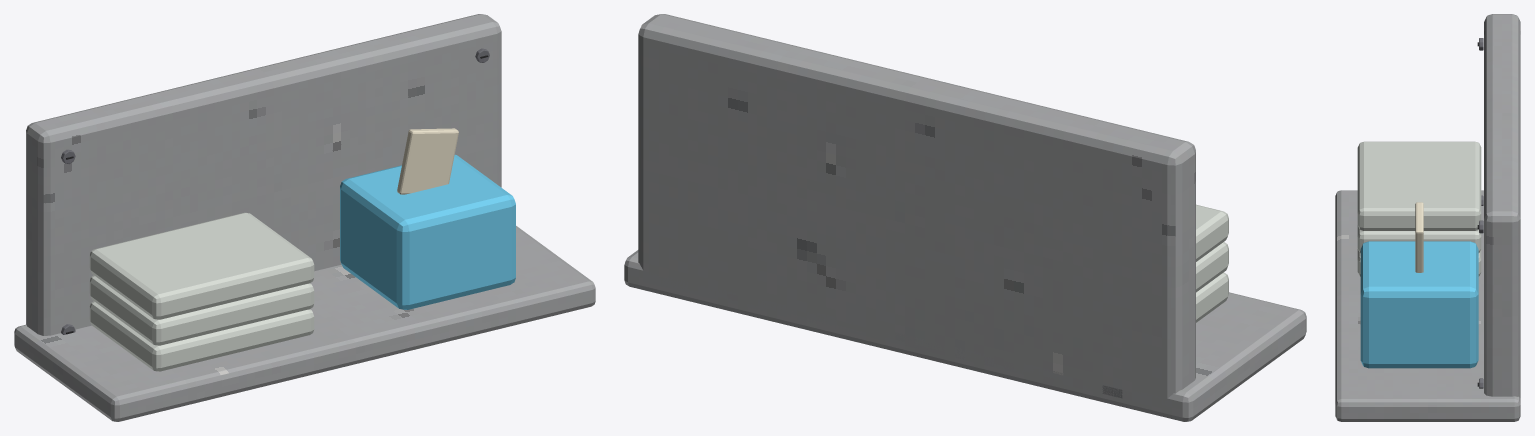
Rendered from lbd_med_comfort_shelf.glb.
3 views of the same model, side by side, from view 1: azimuth 30°, elevation 25°; view 2: azimuth 150°, elevation 25°; view 3: azimuth 270°, elevation 25° (orthographic). The views are drawn at different scales.
Visible parts, largest first — view 1: med_comfort_shelf__mount_003, med_comfort_shelf__shelf_022, med_comfort_shelf__tissue box_034, med_comfort_shelf__folded towel_031, med_comfort_shelf__folded towel_028, med_comfort_shelf__folded towel_025, med_comfort_shelf__tissue_037; view 2: med_comfort_shelf__mount_003, med_comfort_shelf__shelf_022, med_comfort_shelf__folded towel_031, med_comfort_shelf__folded towel_028, med_comfort_shelf__folded towel_025; view 3: med_comfort_shelf__tissue box_034, med_comfort_shelf__mount_003, med_comfort_shelf__shelf_022, med_comfort_shelf__folded towel_031, med_comfort_shelf__folded towel_028, med_comfort_shelf__tissue_037, med_comfort_shelf__folded towel_025.
Boxes of the visible parts, x1,y1,x2,y2 form: med_comfort_shelf__mount_003: (26, 14, 501, 335); med_comfort_shelf__shelf_022: (14, 226, 595, 421); med_comfort_shelf__tissue box_034: (340, 154, 515, 309); med_comfort_shelf__folded towel_031: (89, 212, 314, 319); med_comfort_shelf__folded towel_028: (89, 275, 314, 345); med_comfort_shelf__folded towel_025: (89, 301, 314, 371); med_comfort_shelf__tissue_037: (397, 128, 458, 194); med_comfort_shelf__mount_003: (638, 14, 1195, 409); med_comfort_shelf__shelf_022: (624, 250, 1306, 421); med_comfort_shelf__folded towel_031: (1196, 204, 1228, 261); med_comfort_shelf__folded towel_028: (1196, 242, 1228, 292); med_comfort_shelf__folded towel_025: (1196, 272, 1228, 322); med_comfort_shelf__tissue box_034: (1360, 241, 1478, 368); med_comfort_shelf__mount_003: (1484, 14, 1520, 397); med_comfort_shelf__shelf_022: (1335, 190, 1520, 421); med_comfort_shelf__folded towel_031: (1357, 141, 1481, 230); med_comfort_shelf__folded towel_028: (1357, 225, 1481, 253); med_comfort_shelf__tissue_037: (1415, 202, 1423, 272); med_comfort_shelf__folded towel_025: (1357, 249, 1481, 276).
Bounding box in the file's own units: 0.9 × 0.4025 × 0.33.
6 materials, 3 textured.
